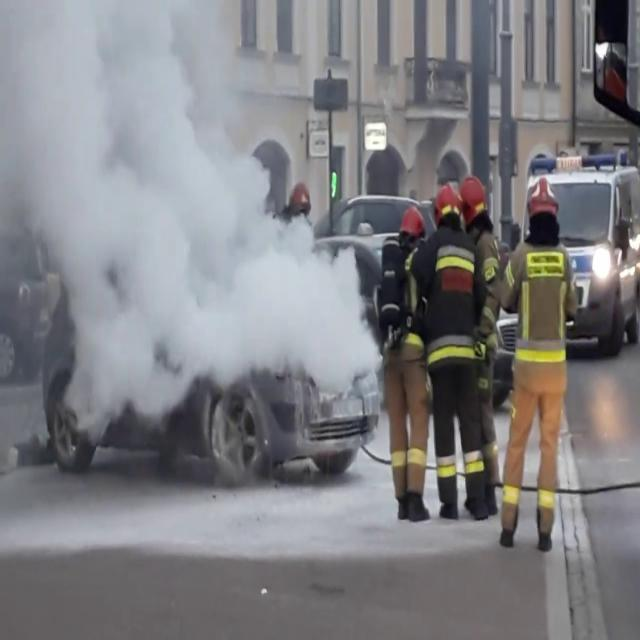Smoke: (0, 0, 376, 487)
